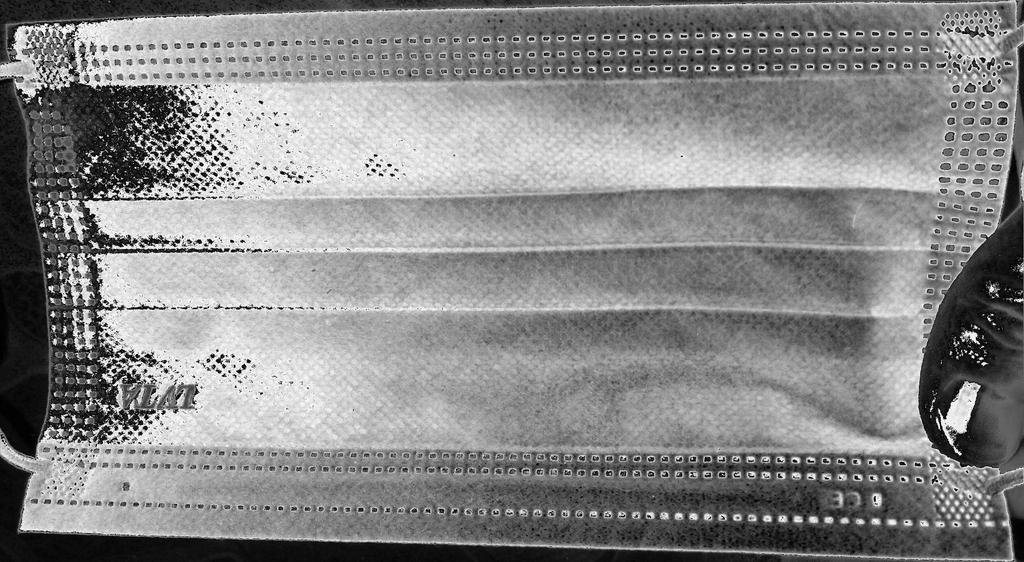High GSM: (15, 74, 916, 450)
